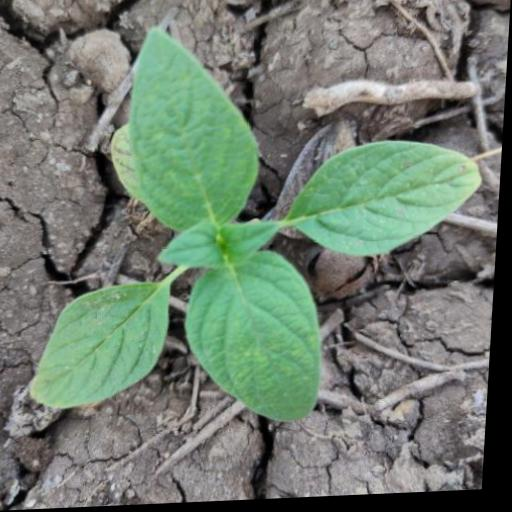crop: (21, 10, 492, 432)
